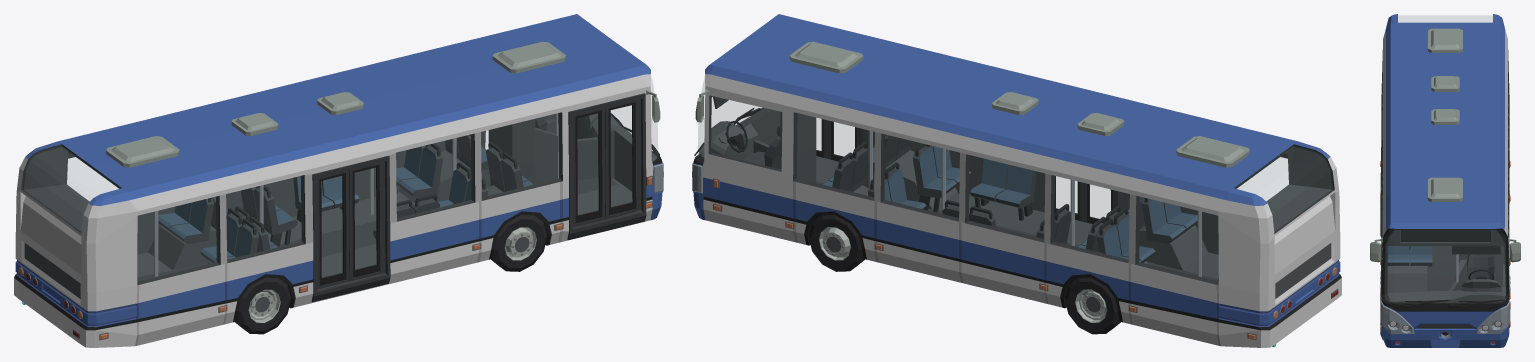
The model's file is asset.gltf.
3 renders of one model, left to right at view 1: azimuth 30°, elevation 25°; view 2: azimuth 150°, elevation 25°; view 3: azimuth 270°, elevation 25°, orthographic. The views are drawn at different scales.
Parts seen in each view (by area): view 1: bus; view 2: bus; view 3: bus.
Part boxes in pixels (left/top/right/bottom): bus: left=14, top=14, right=663, bottom=347; bus: left=692, top=14, right=1341, bottom=347; bus: left=1370, top=14, right=1520, bottom=347.
Bounding box in the file's own units: 1143 × 335 × 324.
Materials: 2 (1 with a texture image).
